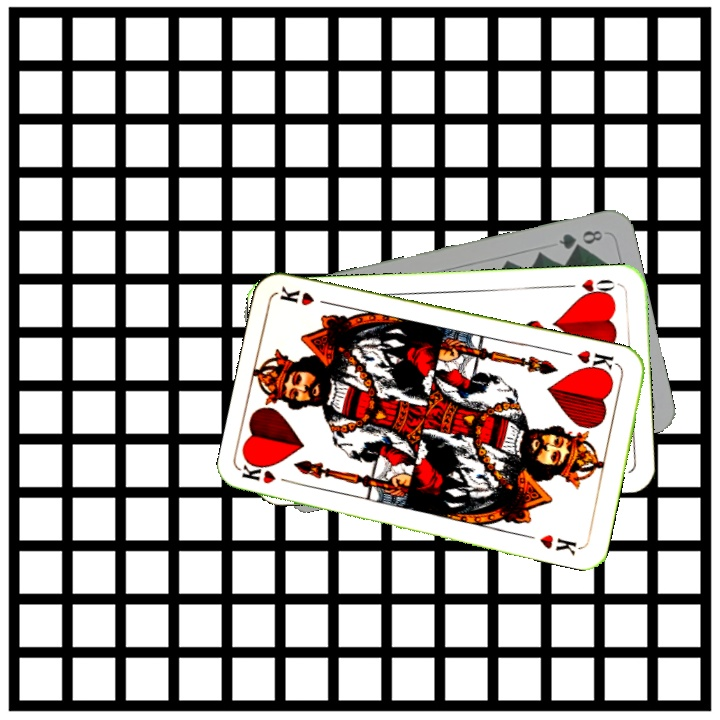G8: (554, 226, 606, 253)
HK: (239, 462, 299, 488), (573, 345, 621, 377)
HO: (562, 274, 617, 300)
